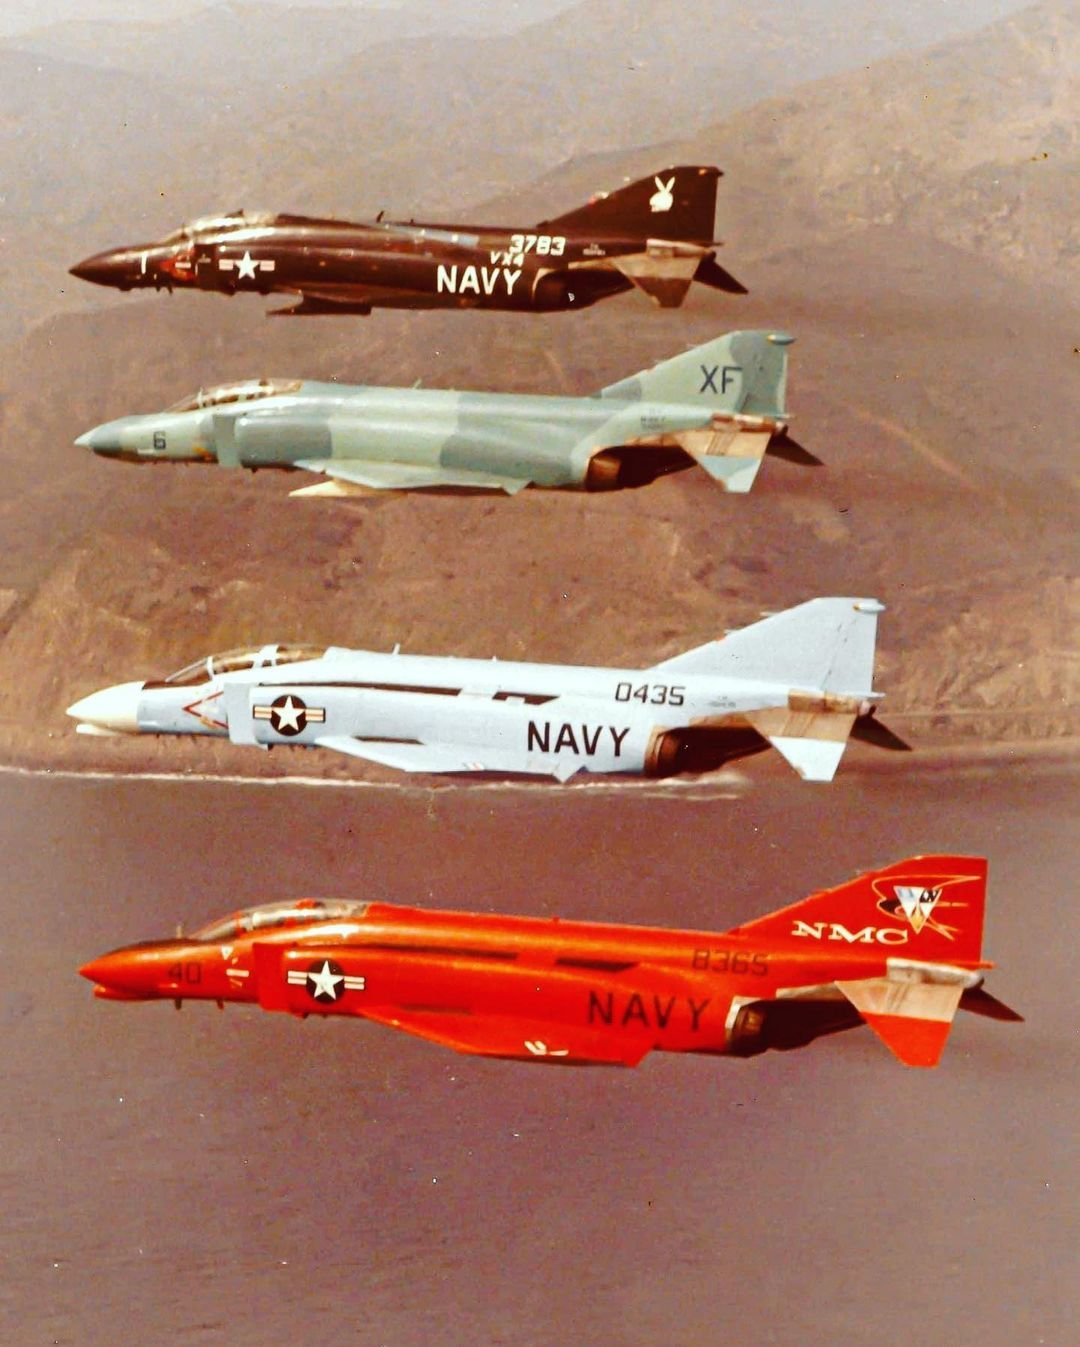F4: (76, 853, 1026, 1070), (64, 597, 914, 785), (72, 328, 827, 502), (66, 164, 750, 317)
